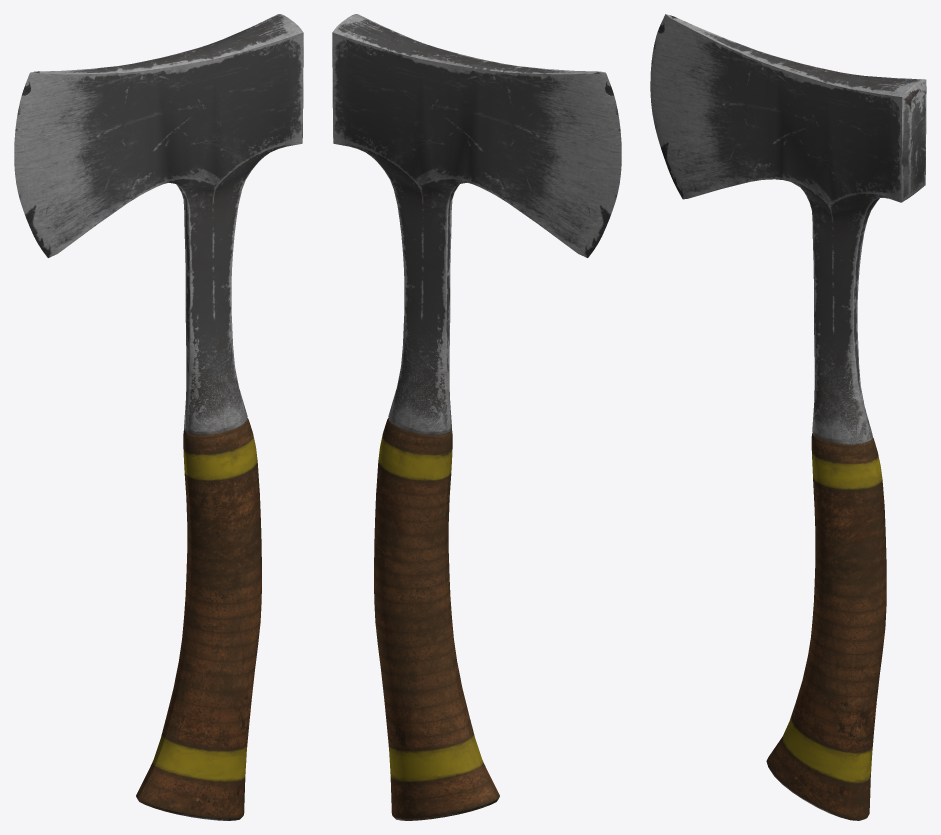
File: hacha.obj
The picture shows the model from 3 angles, left to right: view 1: azimuth 30°, elevation 25°; view 2: azimuth 150°, elevation 25°; view 3: azimuth 330°, elevation 25°; orthographic projection. The views are drawn at different scales.
Visible parts, largest first — view 1: Hatchet_Hatchet_0; view 2: Hatchet_Hatchet_0; view 3: Hatchet_Hatchet_0.
Part boxes in pixels (x1,y1,x2,y2): Hatchet_Hatchet_0: (14, 14, 303, 820); Hatchet_Hatchet_0: (332, 14, 621, 820); Hatchet_Hatchet_0: (650, 14, 926, 820).
Bounding box in the file's own units: 0.1362 × 0.3675 × 0.0302.
Materials: 1 (1 with a texture image).
